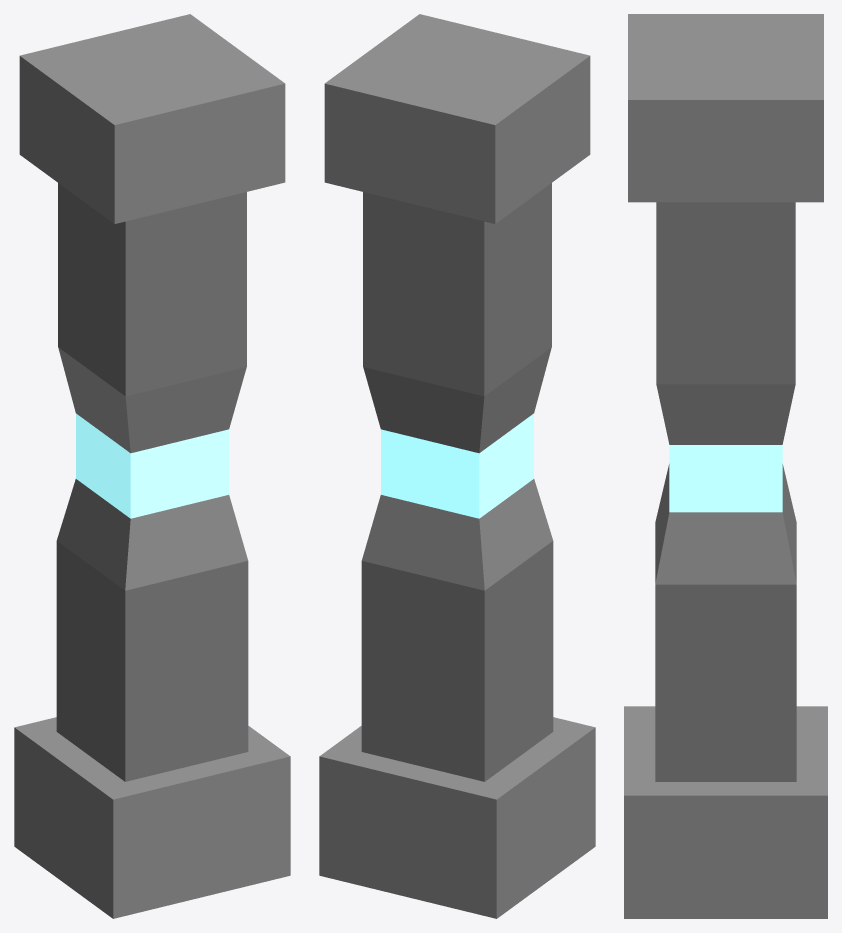
Rendered from SciFiWallColumn_1.fbx.
The picture shows the model from 3 angles, left to right: view 1: azimuth 30°, elevation 25°; view 2: azimuth 150°, elevation 25°; view 3: azimuth 270°, elevation 25°; orthographic projection. The views are drawn at different scales.
Visible parts, largest first — view 1: SciFiWallColumn; view 2: SciFiWallColumn; view 3: SciFiWallColumn.
Boxes of the visible parts, x1,y1,x2,y2 form: SciFiWallColumn: (14,14,290,918); SciFiWallColumn: (319,14,595,918); SciFiWallColumn: (624,14,827,918).
Bounding box in the file's own units: 132 × 562 × 127.
